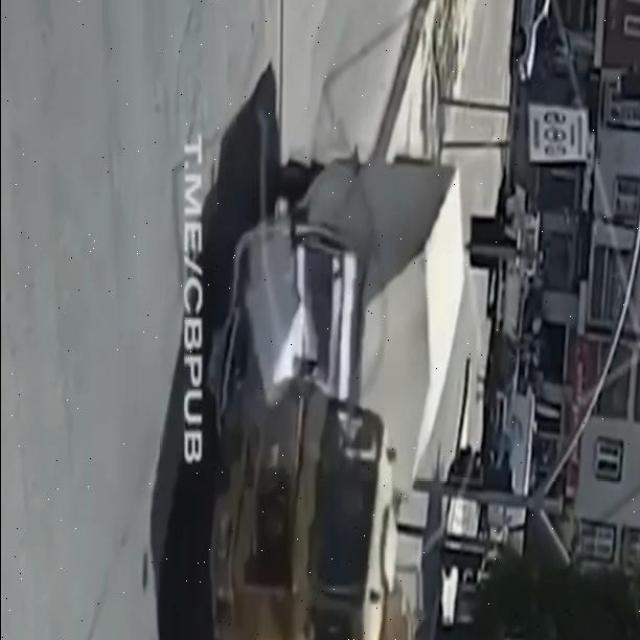accident: (164, 121, 478, 639)
